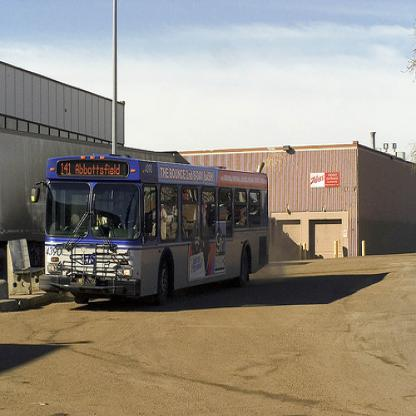bus: (29, 152, 271, 306)
